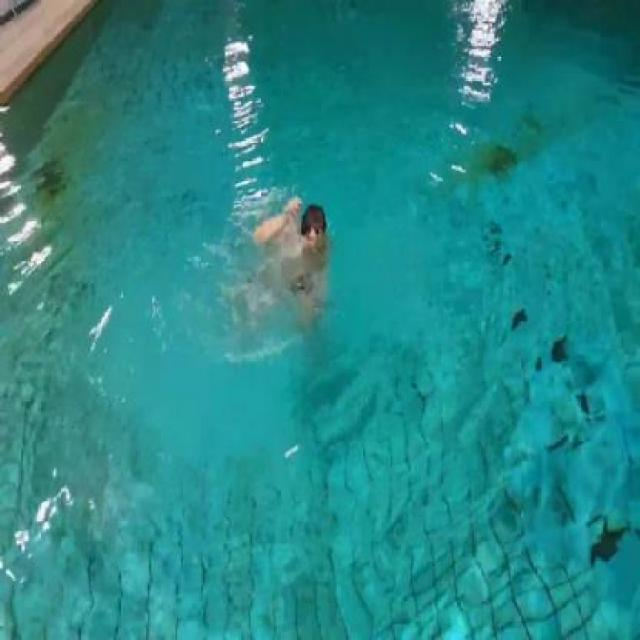drowning: (245, 185, 331, 342)
